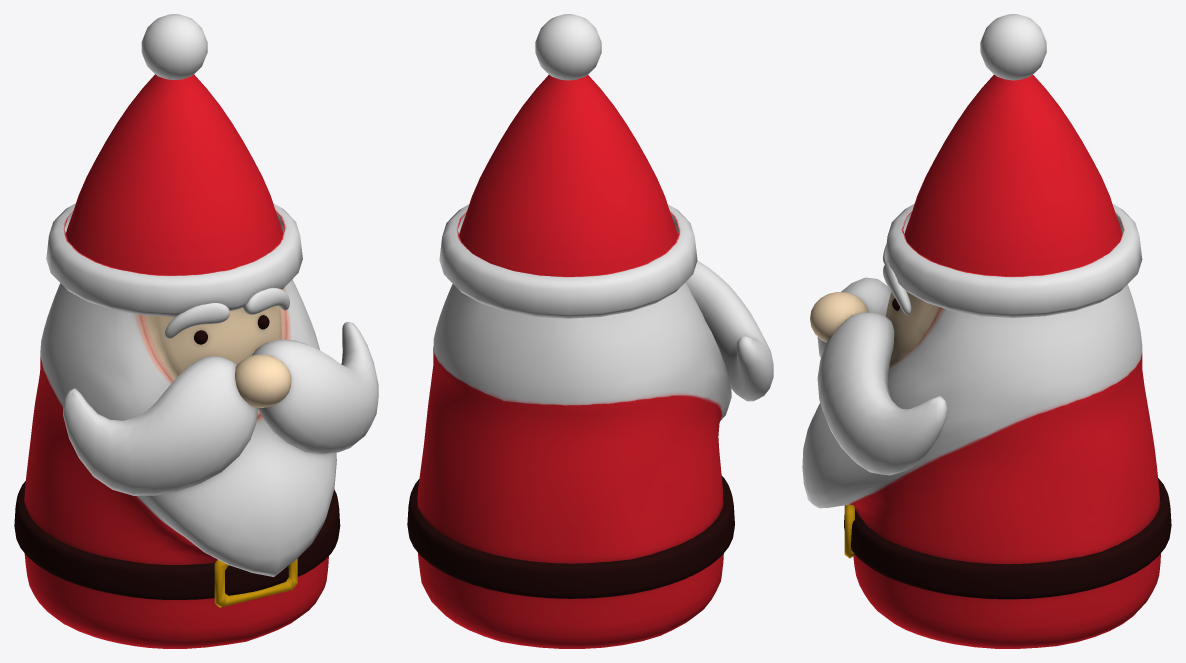
The model's file is qizi_15.FBX.
The picture shows the model from 3 angles, left to right: view 1: azimuth 30°, elevation 25°; view 2: azimuth 150°, elevation 25°; view 3: azimuth 270°, elevation 25°; orthographic projection.
Visible parts, largest first — view 1: qizi_15; view 2: qizi_15; view 3: qizi_15.
Part boxes in pixels (x1=…): qizi_15: x1=14, y1=14, x2=378, y2=648; qizi_15: x1=407, y1=14, x2=773, y2=648; qizi_15: x1=802, y1=14, x2=1171, y2=648.
Size of the model in its own units: 62.01 by 113 by 65.67.
1 material, 1 textured.
